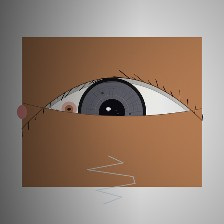foreign_body_visible: (60, 102, 78, 117)
